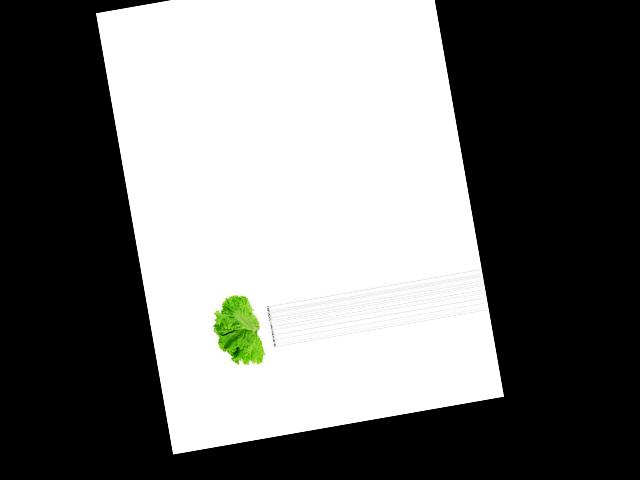lettuce: (207, 289, 275, 371)
